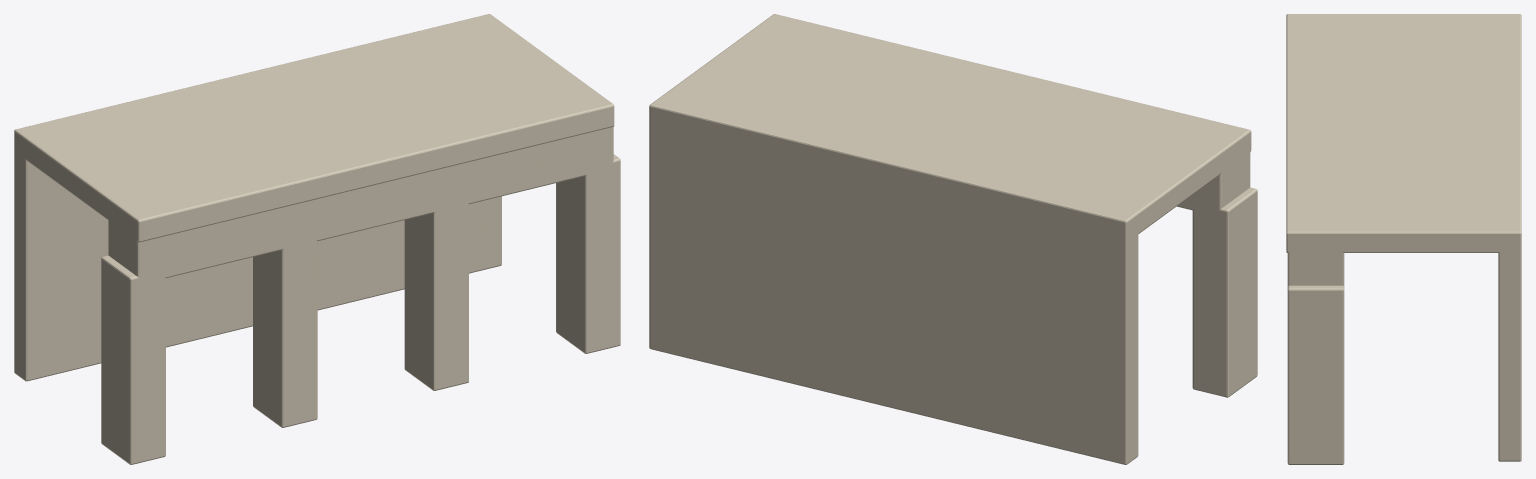
Rendered from greek_house_arcade_LOD1.glb.
The picture shows the model from 3 angles, left to right: view 1: azimuth 30°, elevation 25°; view 2: azimuth 150°, elevation 25°; view 3: azimuth 270°, elevation 25°; orthographic projection. The views are drawn at different scales.
Visible parts, largest first — view 1: LOD_Roof, LOD_Back, LOD_Upper, LOD_Pier, LOD_Pier.001, LOD_Pier.002, LOD_Pier.003; view 2: LOD_Back, LOD_Roof, LOD_Pier, LOD_Upper; view 3: LOD_Roof, LOD_Pier.003, LOD_Back, LOD_Upper.
Part boxes in pixels (<box>): LOD_Roof: <box>14,14,614,242</box>; LOD_Back: <box>14,143,501,381</box>; LOD_Upper: <box>108,127,613,282</box>; LOD_Pier: <box>101,255,165,464</box>; LOD_Pier.001: <box>253,235,317,427</box>; LOD_Pier.002: <box>404,199,468,390</box>; LOD_Pier.003: <box>556,154,620,353</box>; LOD_Back: <box>649,118,1138,464</box>; LOD_Roof: <box>649,14,1251,241</box>; LOD_Pier: <box>1192,187,1257,397</box>; LOD_Upper: <box>1177,144,1250,215</box>; LOD_Roof: <box>1286,14,1521,252</box>; LOD_Pier.003: <box>1287,285,1344,464</box>; LOD_Back: <box>1498,244,1521,461</box>; LOD_Upper: <box>1287,245,1344,286</box>.
Bounding box in the file's own units: 6.8 × 3.23 × 3.
